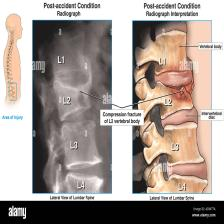compression-crush-fracture: (33, 20, 212, 192)
